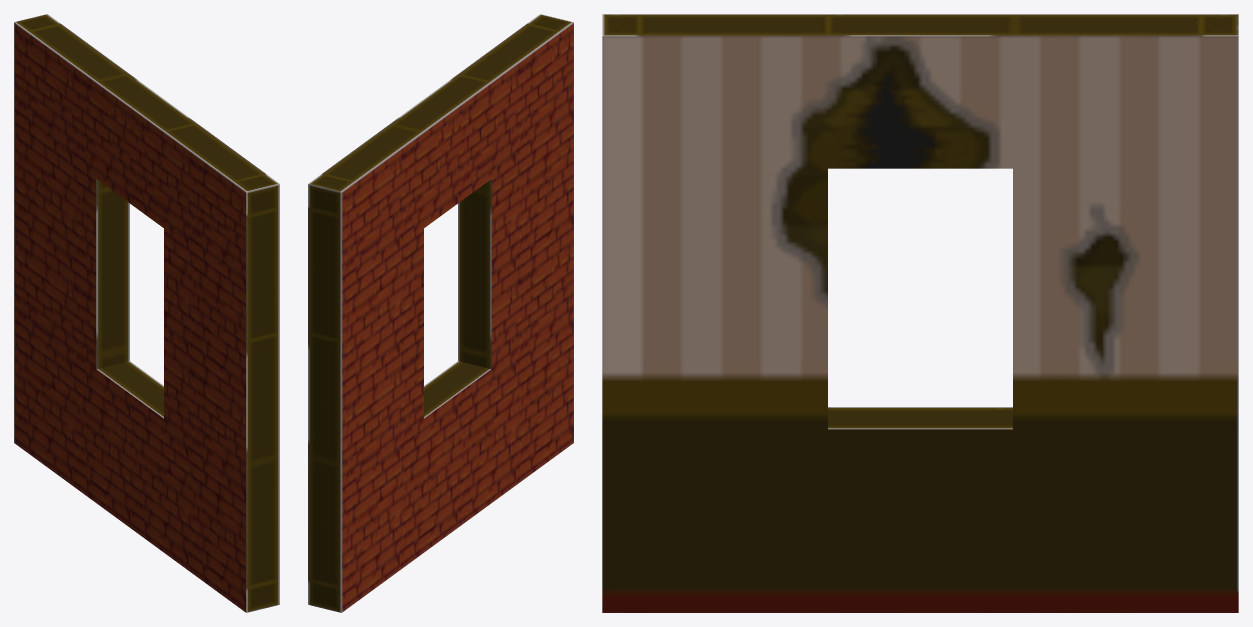
The model's file is Wallb_Window_03.fbx.
The picture shows the model from 3 angles, left to right: view 1: azimuth 30°, elevation 25°; view 2: azimuth 150°, elevation 25°; view 3: azimuth 270°, elevation 25°; orthographic projection. The views are drawn at different scales.
Parts seen in each view (by area): view 1: Wallb_Window_03; view 2: Wallb_Window_03; view 3: Wallb_Window_03.
Boxes of the visible parts, <box> form: Wallb_Window_03: <box>14,14,279,612</box>; Wallb_Window_03: <box>308,14,573,612</box>; Wallb_Window_03: <box>602,14,1238,612</box>.
Size of the model in its own units: 50 by 600 by 600.
